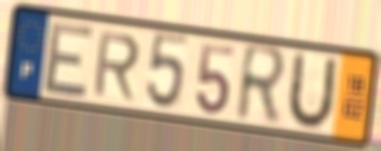5: (143, 29, 190, 114), (194, 39, 237, 116)
E: (41, 20, 97, 100)
R: (233, 40, 291, 130), (90, 30, 142, 103)
U: (283, 49, 340, 133)
